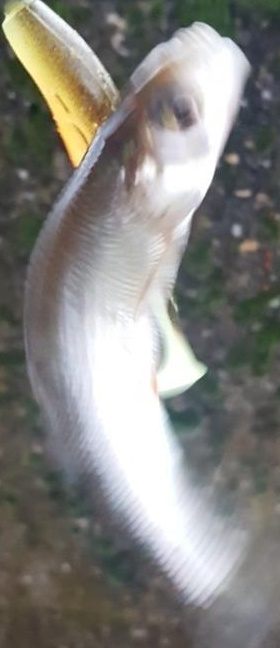Aspius aspius: (20, 20, 260, 628)
